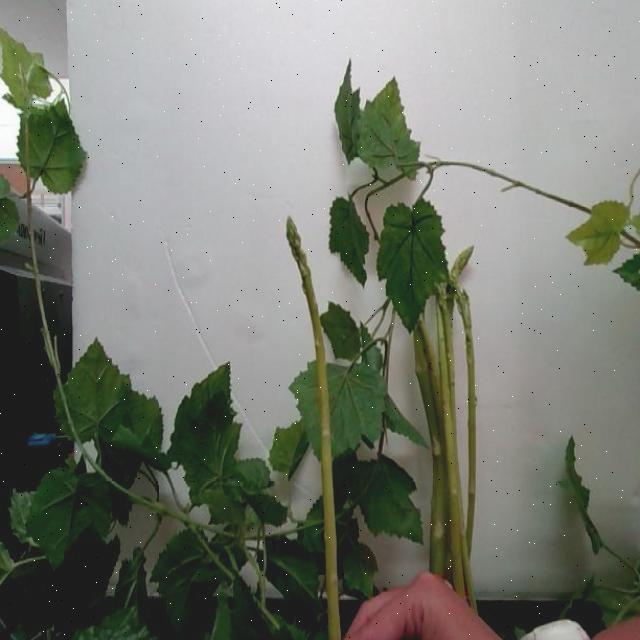aspargus: (286, 219, 341, 640)
